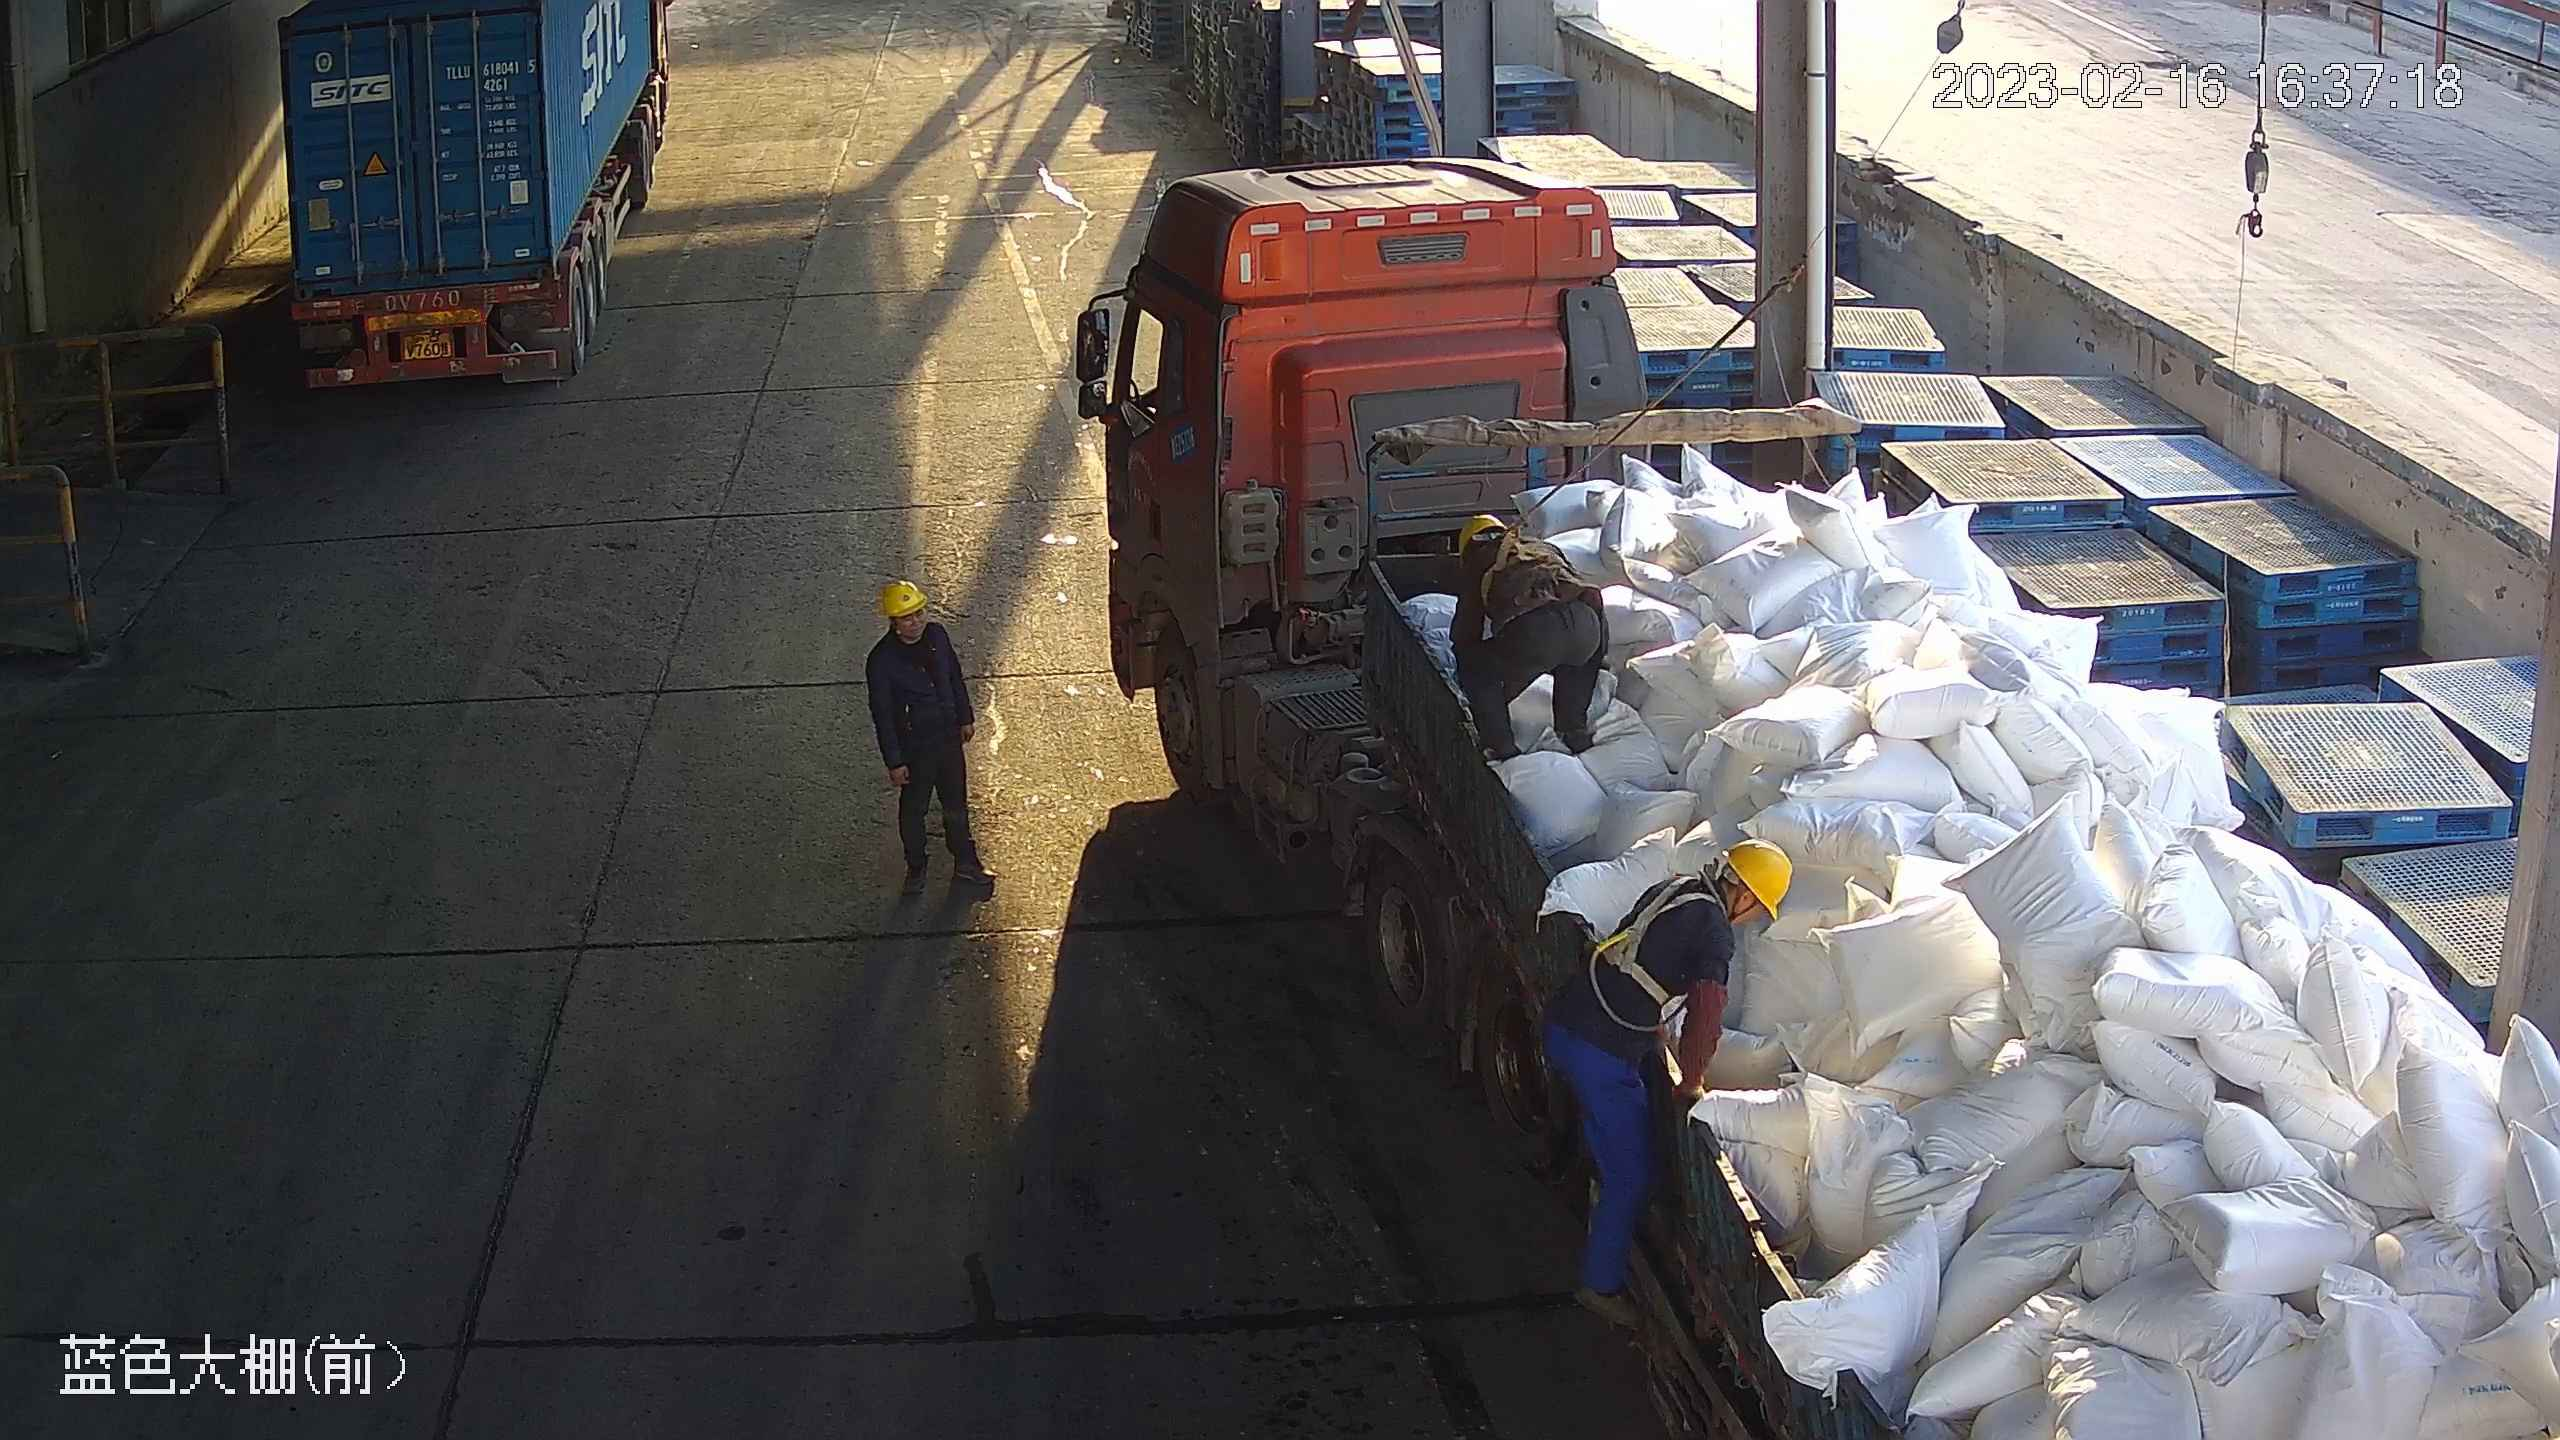belt: (1601, 875, 1714, 999), (1472, 529, 1555, 595)
head: (1605, 840, 1796, 964), (1442, 504, 1561, 580), (855, 584, 949, 673)
helmet: (1731, 834, 1805, 925), (873, 577, 931, 621), (1449, 506, 1505, 545)
people: (1527, 845, 1812, 1329), (848, 571, 1011, 899), (1444, 503, 1618, 758)
truck: (1070, 164, 2560, 1440)
